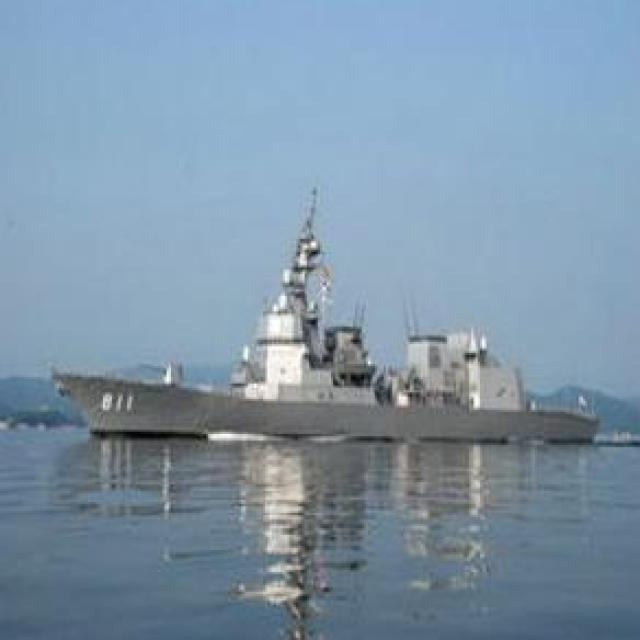navalvessels: (45, 177, 624, 451)
